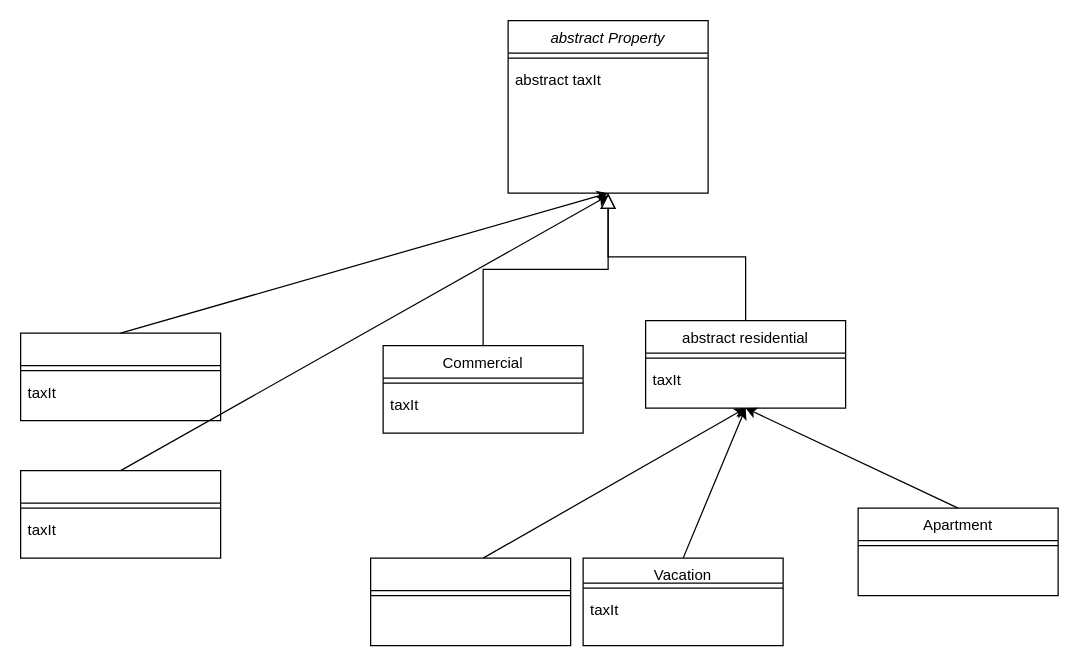
Image size: 1079x666. Some labels were removed from this diagram. Each missing label, with the box of its shape:
plot: (19, 332, 221, 421)
residential: (19, 469, 221, 558)
villa: (369, 557, 571, 646)
